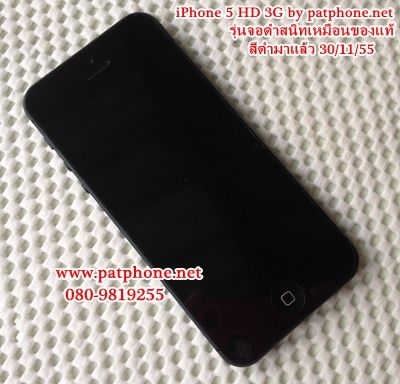Phone: (21, 8, 361, 371)
